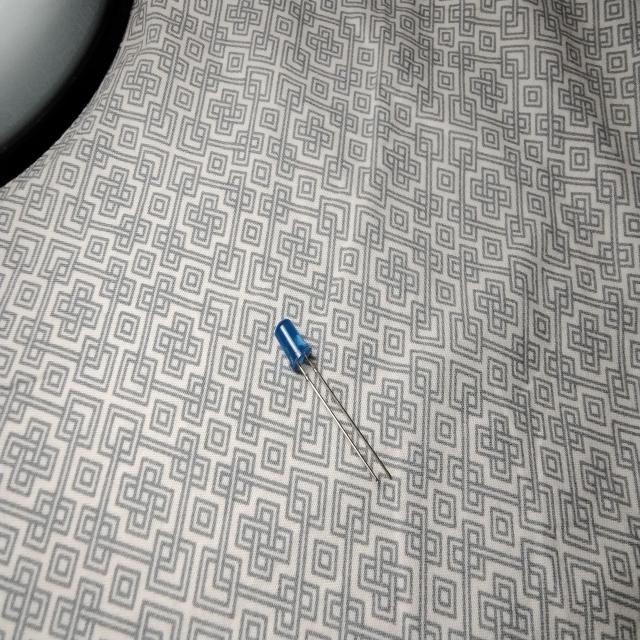blue_led: (273, 317, 393, 483)
